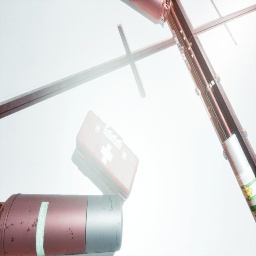0: (222, 134, 256, 215)
FirstAidBox ,: (76, 110, 139, 202)
NitrogenTank ,: (0, 193, 123, 256), (129, 0, 171, 23)
